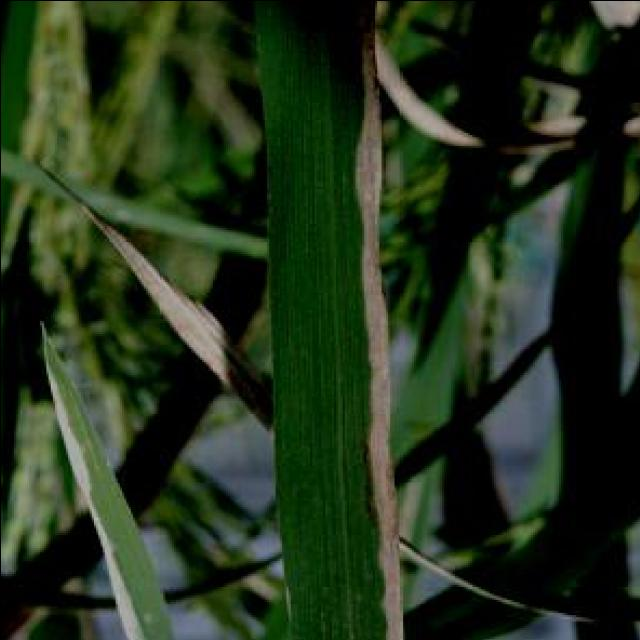Bacterial_Leaf_Blight: (262, 0, 411, 640)
